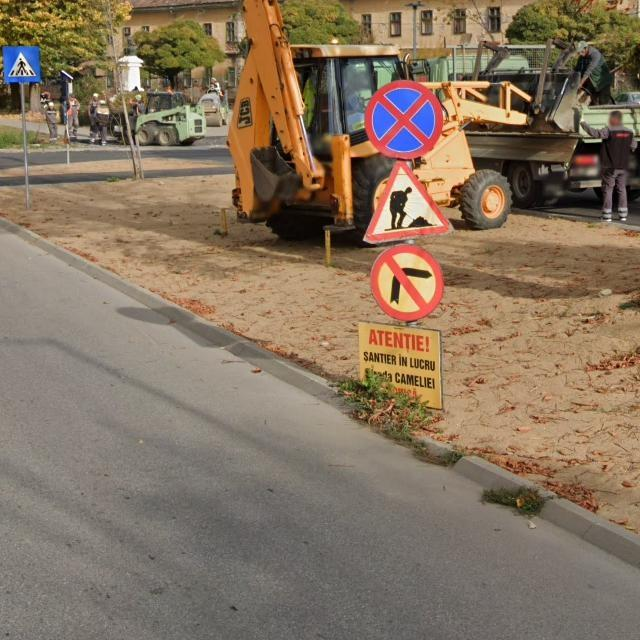forb_waiting: (365, 78, 444, 159)
info_crosswalk: (3, 45, 41, 83)
